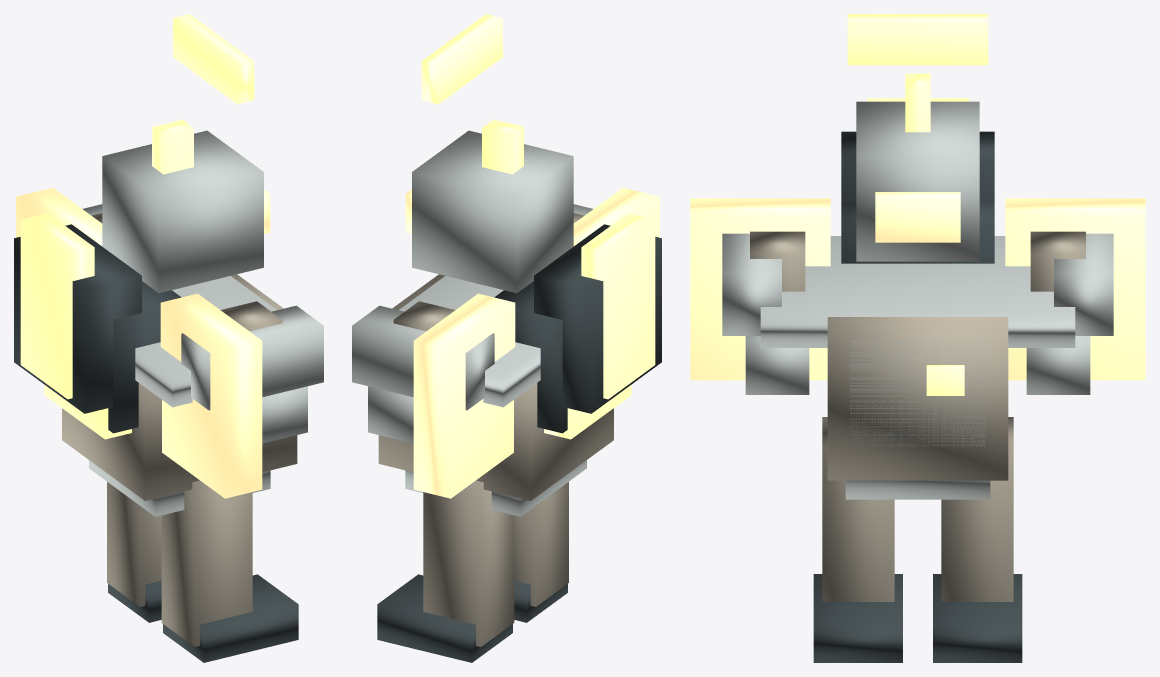
File: solar-yard-helios-9-lod1.glb
The picture shows the model from 3 angles, left to right: view 1: azimuth 30°, elevation 25°; view 2: azimuth 150°, elevation 25°; view 3: azimuth 270°, elevation 25°; orthographic projection. The views are drawn at different scales.
Parts seen in each view (by area): view 1: helmet-shell, solar-yard-helios-9-reflector-wing-left, leg-left-shell, solar-yard-helios-9-thermal-core, solar-yard-helios-9-fabricator-core, torso-suit, boss-shoulder-left, boot-left, leg-right-shell, backpack-core, solar-yard-helios-9-command-lens, solar-yard-helios-9-sunshield-crown (+7 smaller); view 2: helmet-shell, solar-yard-helios-9-reflector-wing-right, leg-right-shell, solar-yard-helios-9-thermal-core, solar-yard-helios-9-fabricator-core, torso-suit, boss-shoulder-right, boot-right, leg-left-shell, backpack-core, solar-yard-helios-9-command-lens, solar-yard-helios-9-sunshield-crown (+7 smaller); view 3: torso-suit, solar-yard-helios-9-sunshield-crown, helmet-shell, solar-yard-helios-9-reflector-wing-left, solar-yard-helios-9-reflector-wing-right, leg-left-shell, leg-right-shell, solar-yard-helios-9-command-lens, chest-plate, boot-left, boot-right, boss-shoulder-left (+11 smaller).
Part boxes in pixels (x1,y1,x2,y2): helmet-shell: (102, 130, 263, 293); solar-yard-helios-9-reflector-wing-left: (160, 293, 262, 498); leg-left-shell: (161, 480, 252, 646); solar-yard-helios-9-thermal-core: (20, 213, 94, 399); solar-yard-helios-9-fabricator-core: (14, 224, 141, 413); torso-suit: (62, 274, 297, 500); boss-shoulder-left: (181, 305, 323, 410); boot-left: (163, 574, 298, 662); leg-right-shell: (107, 482, 161, 606); backpack-core: (108, 281, 181, 433); solar-yard-helios-9-command-lens: (173, 14, 254, 104); solar-yard-helios-9-sunshield-crown: (135, 276, 276, 407); helmet-shell: (412, 130, 573, 293); solar-yard-helios-9-reflector-wing-right: (413, 293, 515, 498); leg-right-shell: (423, 480, 514, 646); solar-yard-helios-9-thermal-core: (581, 213, 655, 399); solar-yard-helios-9-fabricator-core: (534, 224, 661, 413); torso-suit: (378, 274, 613, 500); boss-shoulder-right: (352, 305, 494, 410); boot-right: (377, 574, 512, 662); leg-left-shell: (514, 482, 568, 606); backpack-core: (494, 281, 567, 433); solar-yard-helios-9-command-lens: (421, 14, 502, 104); solar-yard-helios-9-sunshield-crown: (399, 276, 540, 407); torso-suit: (827, 317, 1008, 480); solar-yard-helios-9-sunshield-crown: (760, 236, 1075, 347); helmet-shell: (856, 101, 979, 261); solar-yard-helios-9-reflector-wing-left: (690, 198, 830, 380); solar-yard-helios-9-reflector-wing-right: (1005, 198, 1145, 380); leg-left-shell: (822, 417, 894, 601); leg-right-shell: (941, 417, 1013, 601); solar-yard-helios-9-command-lens: (847, 14, 988, 65); chest-plate: (850, 340, 985, 446); boot-left: (813, 574, 902, 662); boot-right: (933, 574, 1022, 662); boss-shoulder-left: (722, 233, 781, 335).
Size of the model in its own units: 1.29 by 3.24 by 2.14.
